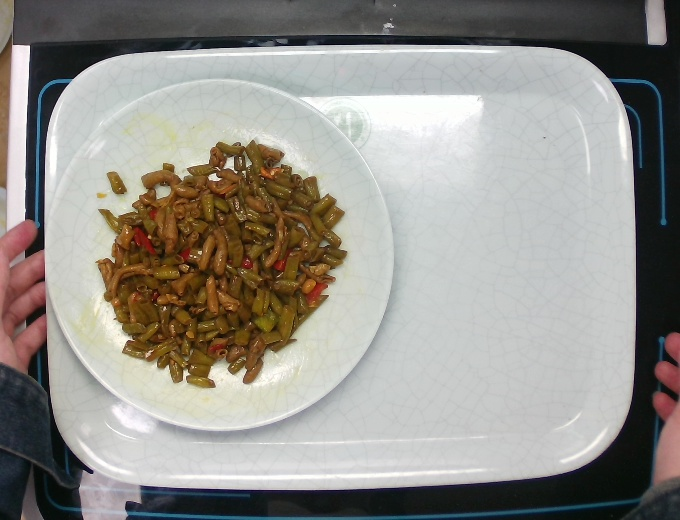JYsf-Da_Yuan_Pan: (41, 68, 404, 440)
